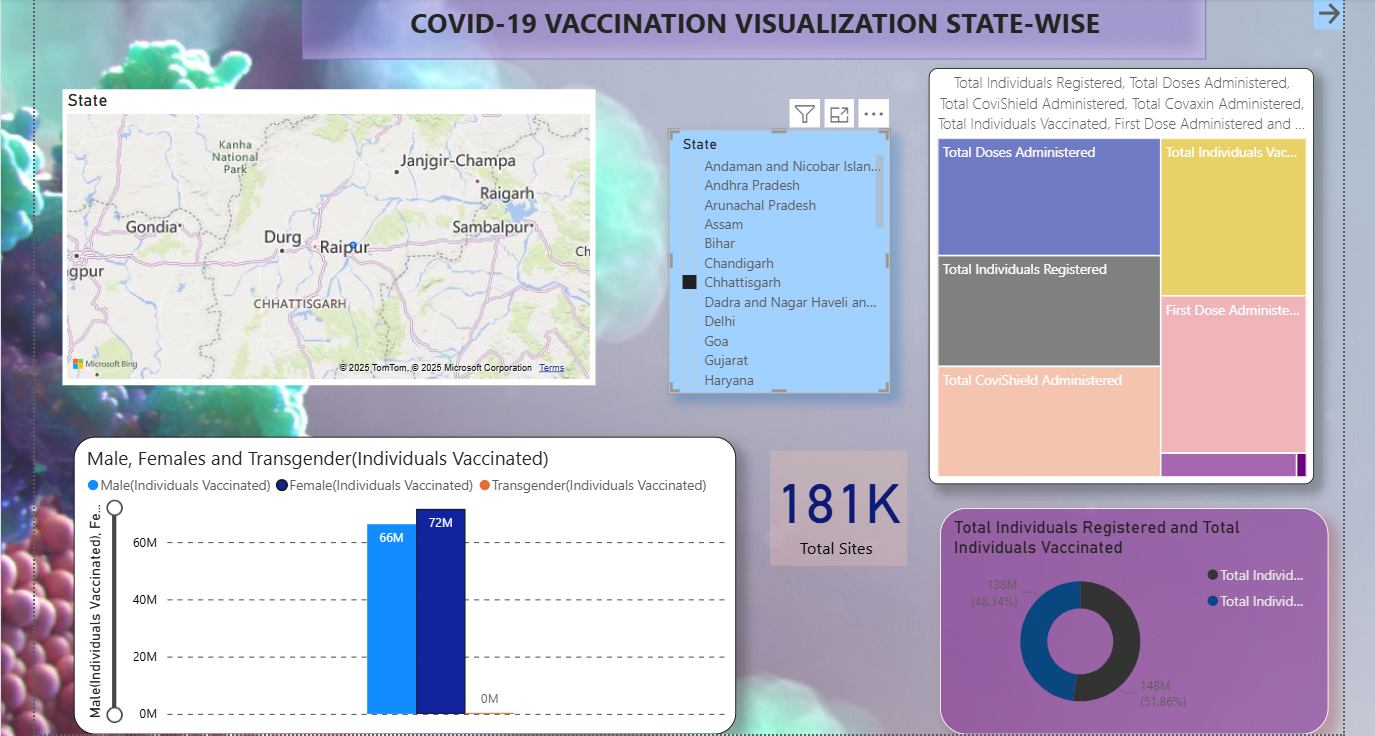

The page's visual inventory and layout, read from the dashboard file:
{"tool":"powerbi","page":{"name":"Covid-19 Vaccine ","canvas":[1280,720],"ordinal":0},"visuals":[{"type":"map","fields":{"Category":["covid_vaccine_statewise.State"]},"box":[26.9,89.3,520.9,288.6],"z":0},{"type":"slicer","fields":{"Values":["covid_vaccine_statewise.State"]},"box":[620,128.4,216.4,258],"z":1000},{"type":"textbox","box":[261.7,0,884.1,59.9],"z":2000},{"type":"donutChart","fields":{"Y":["Sum(covid_vaccine_statewise.Total Individuals Registered)","Sum(covid_vaccine_statewise.Total Individuals Vaccinated)"]},"box":[885.3,498.9,380.3,221.3],"z":3000},{"type":"card","fields":{"Values":["Sum(covid_vaccine_statewise.Total Sites )"]},"box":[719,442.7,134.5,112.5],"z":4000},{"type":"clusteredColumnChart","title":"Male, Females and Transgender(Individuals Vaccinated)","fields":{"Y":["Sum(covid_vaccine_statewise.Male(Individuals Vaccinated))","Sum(covid_vaccine_statewise.Female(Individuals Vaccinated))","Sum(covid_vaccine_statewise.Transgender(Individuals Vaccinated))"]},"box":[37.9,429.2,648.1,291],"z":5000},{"type":"actionButton","box":[1251,0,29.3,30.6],"z":6000},{"type":"treemap","fields":{"Values":["Sum(covid_vaccine_statewise.Total Individuals Registered)","Sum(covid_vaccine_statewise.Total Doses Administered)","Sum(covid_vaccine_statewise.Total CoviShield Administered)","Sum(covid_vaccine_statewise.Total Covaxin Administered)","Sum(covid_vaccine_statewise.Total Individuals Vaccinated)","Sum(covid_vaccine_statewise.First Dose Administered)","Sum(covid_vaccine_statewise.Second Dose Administered)"]},"box":[874.3,68.5,376.6,407.2],"z":7000}]}

Visuals, with their boxes on the page's 1280x720 design canvas (x1, y1, x2, y2). These are canvas units, not pixel positions in the 1375x736 screenshot, which may show the page scaled, cropped or inside an application window:
map - covid_vaccine_statewise.State: rect(27, 89, 548, 378)
slicer - covid_vaccine_statewise.State: rect(620, 128, 836, 386)
textbox: rect(262, 0, 1146, 60)
donutChart - Sum(covid_vaccine_statewise.Total Individuals Registered) x Sum(covid_vaccine_statewise.Total Individuals Vaccinated): rect(885, 499, 1266, 720)
card - Sum(covid_vaccine_statewise.Total Sites ): rect(719, 443, 854, 555)
"Male, Females and Transgender(Individuals Vaccinated)" clusteredColumnChart: rect(38, 429, 686, 720)
actionButton: rect(1251, 0, 1280, 31)
treemap - Sum(covid_vaccine_statewise.Total Individuals Registered) x Sum(covid_vaccine_statewise.Total Doses Administered): rect(874, 68, 1251, 476)
